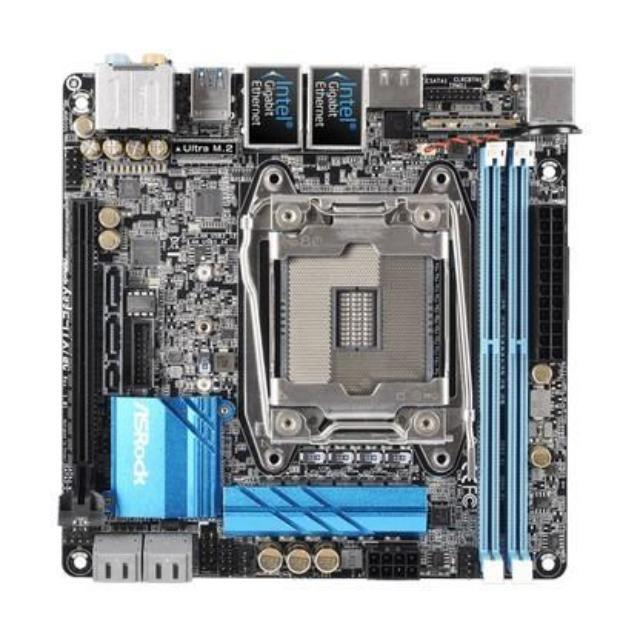Mainboard: (56, 62, 570, 590)
